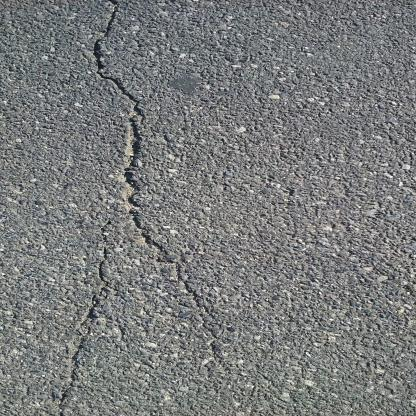Cracks: (56, 1, 227, 416)
